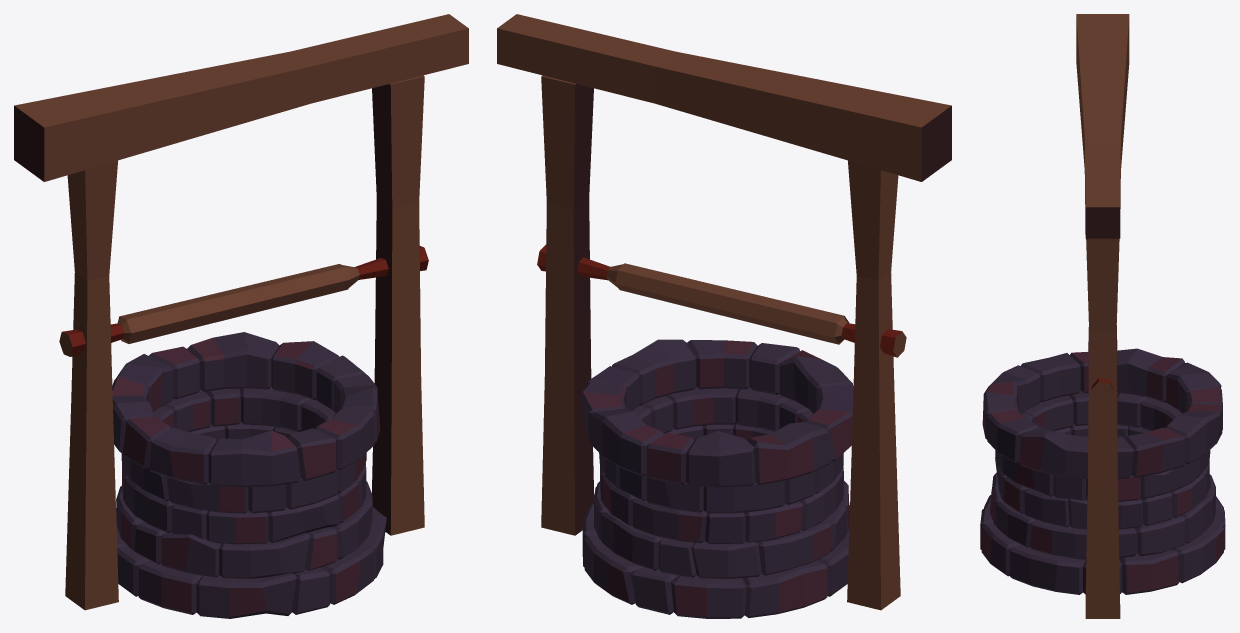
The model's file is poco.fbx.
3 renders of one model, left to right at view 1: azimuth 30°, elevation 25°; view 2: azimuth 150°, elevation 25°; view 3: azimuth 270°, elevation 25°, orthographic. The views are drawn at different scales.
Parts seen in each view (by area): view 1: Cube.001; view 2: Cube.001; view 3: Cube.001.
Part boxes in pixels (<box>): Cube.001: <box>14,14,468,618</box>; Cube.001: <box>497,14,951,618</box>; Cube.001: <box>980,14,1225,618</box>.
Size of the model in its own units: 2528 by 2798 by 1415.
